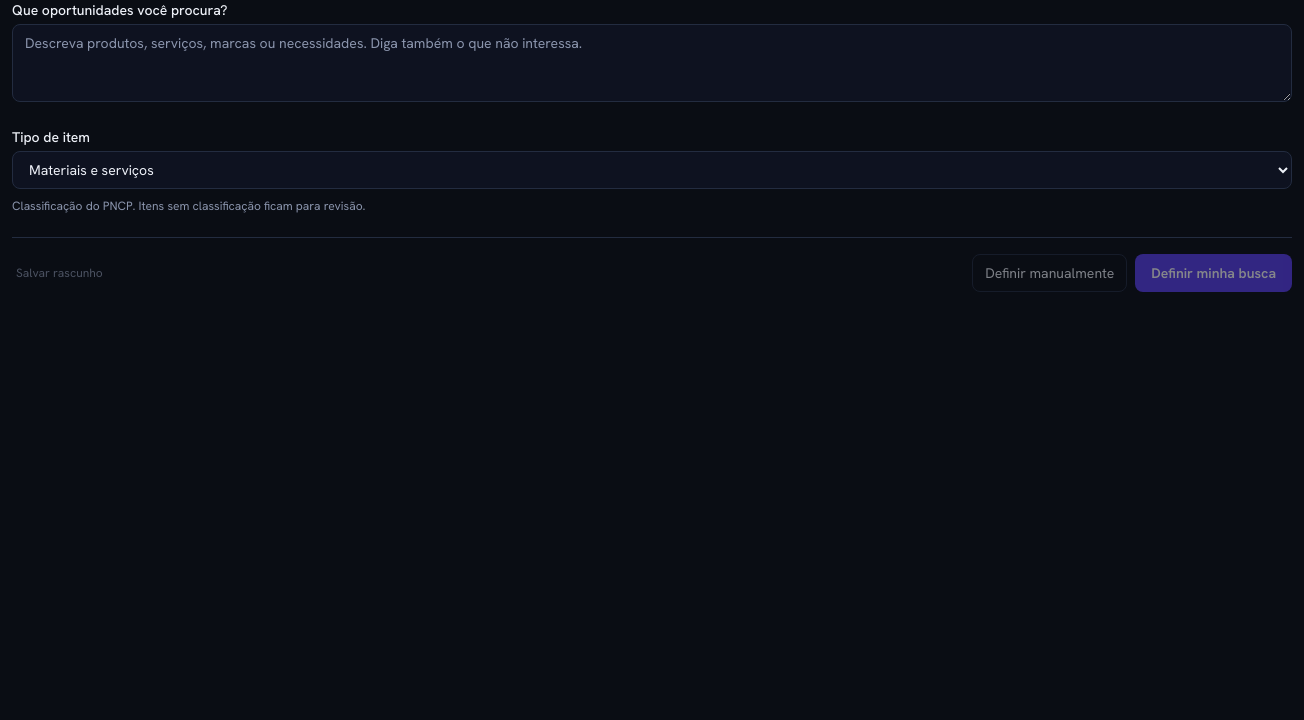
Test case: an ambiguous sector or application is selected by the user before consulting the sample
Replace the text in the text box labelled "Que oportunidades você procura?" with "monitor" at {"x": 652, "y": 63}, box [12,24,1292,102]
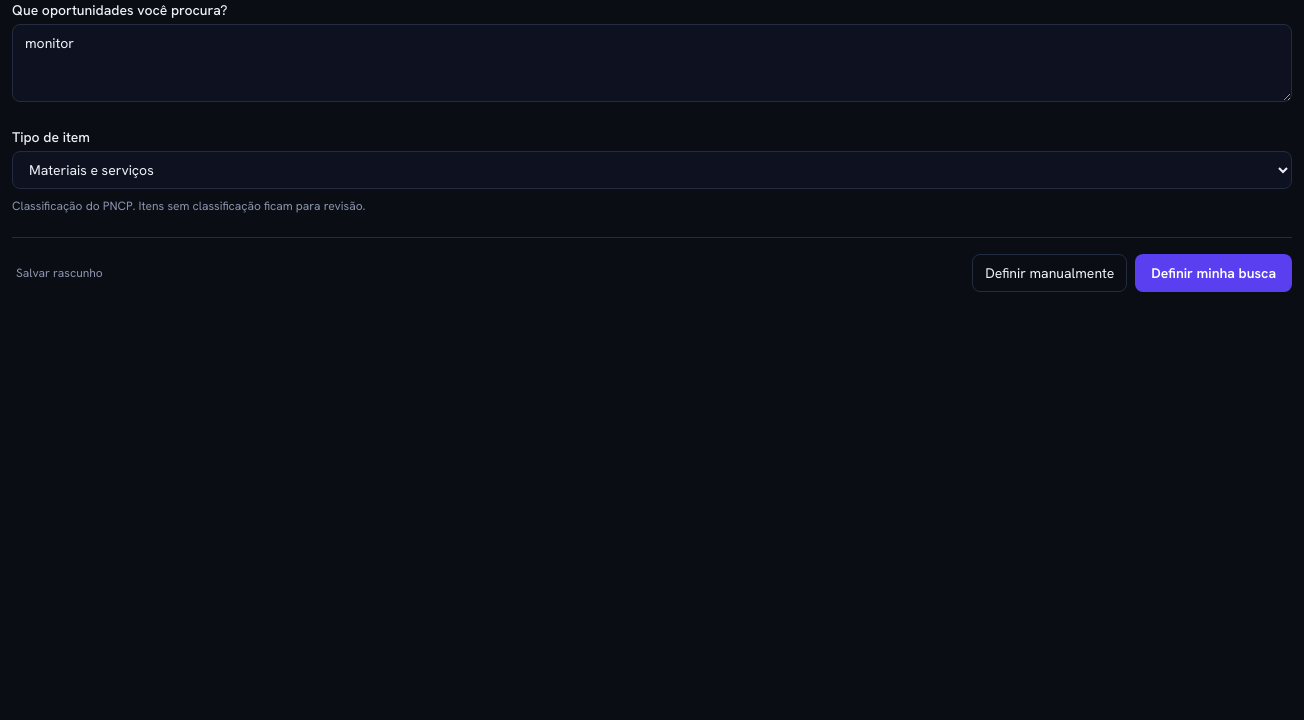
Click the button "Definir minha busca".
click(1214, 272)  # box [1135,254,1292,292]
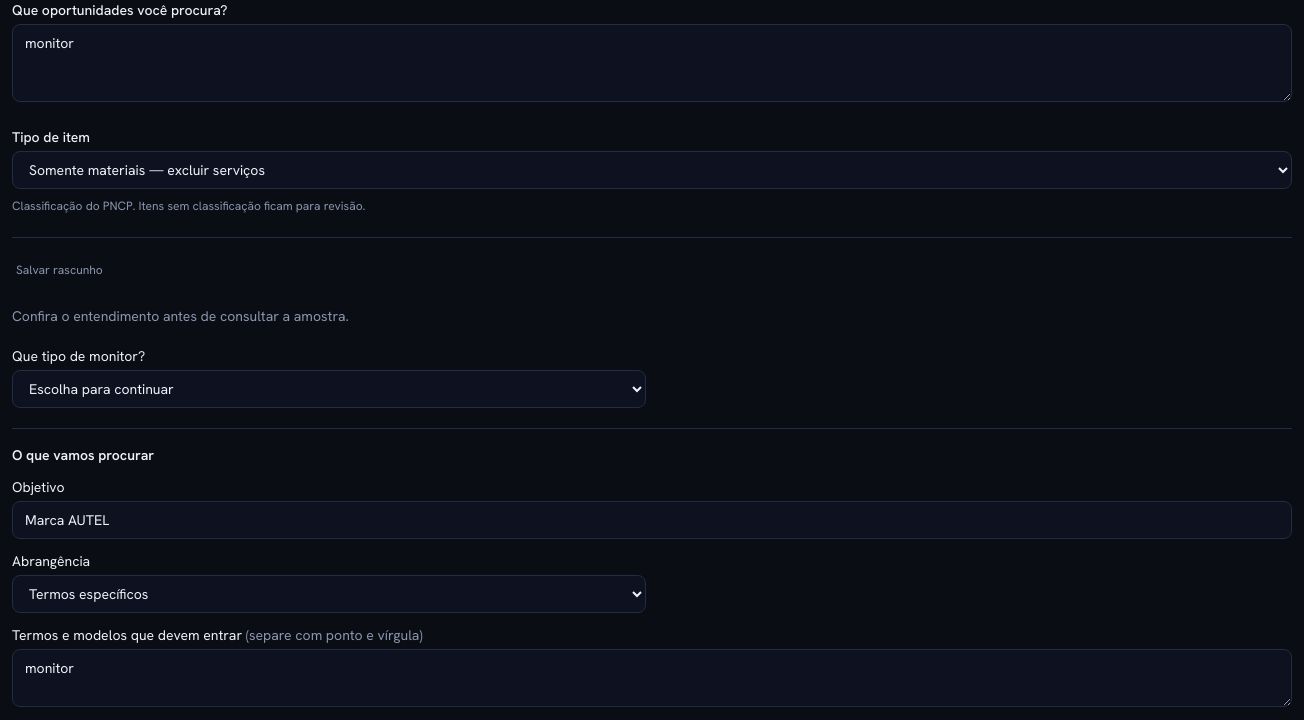
Result: the dropdown labelled "Que tipo de monitor?" is shown
Select "Sinais vitais" in the dropdown labelled "Que tipo de monitor?" at {"x": 329, "y": 388}, box [12,370,646,408]
(page scrolled)
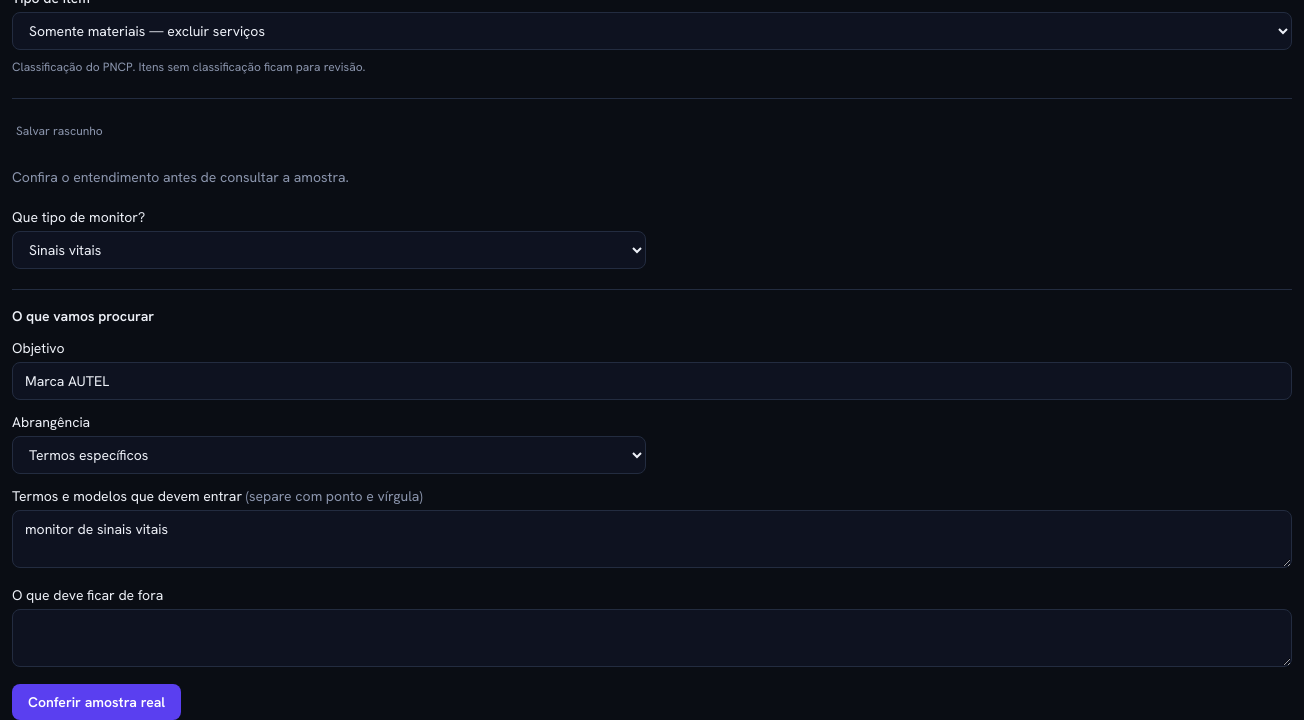
Result: the text box labelled "Termos e modelos" holds "monitor de sinais vitais" at [12,510,1292,568]
Result: the button "Conferir amostra real" is enabled at [12,684,181,719]
